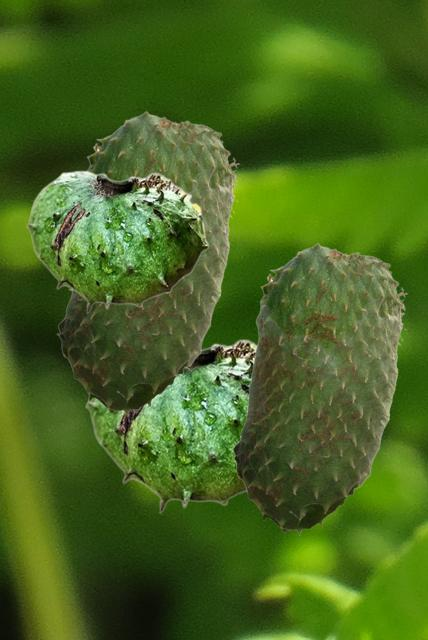guyabano: (56, 110, 238, 415), (231, 242, 406, 534), (85, 336, 256, 513), (26, 170, 208, 313)
